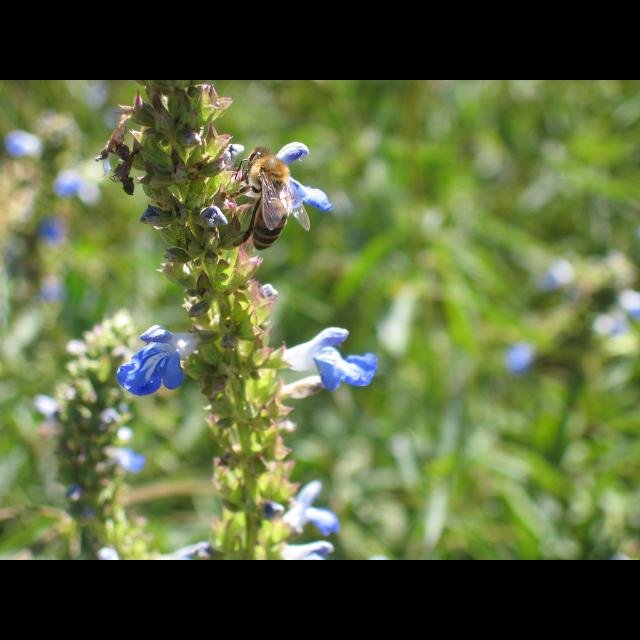Flower: (216, 144, 334, 212), (260, 325, 376, 393), (120, 326, 220, 398), (268, 483, 340, 542), (160, 538, 222, 560), (101, 444, 147, 471), (266, 541, 330, 559), (276, 377, 328, 399), (142, 206, 178, 228), (192, 205, 228, 227)
